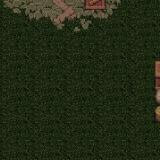Hide: (50, 0, 116, 56)
Obstacle: (0, 0, 127, 37)
